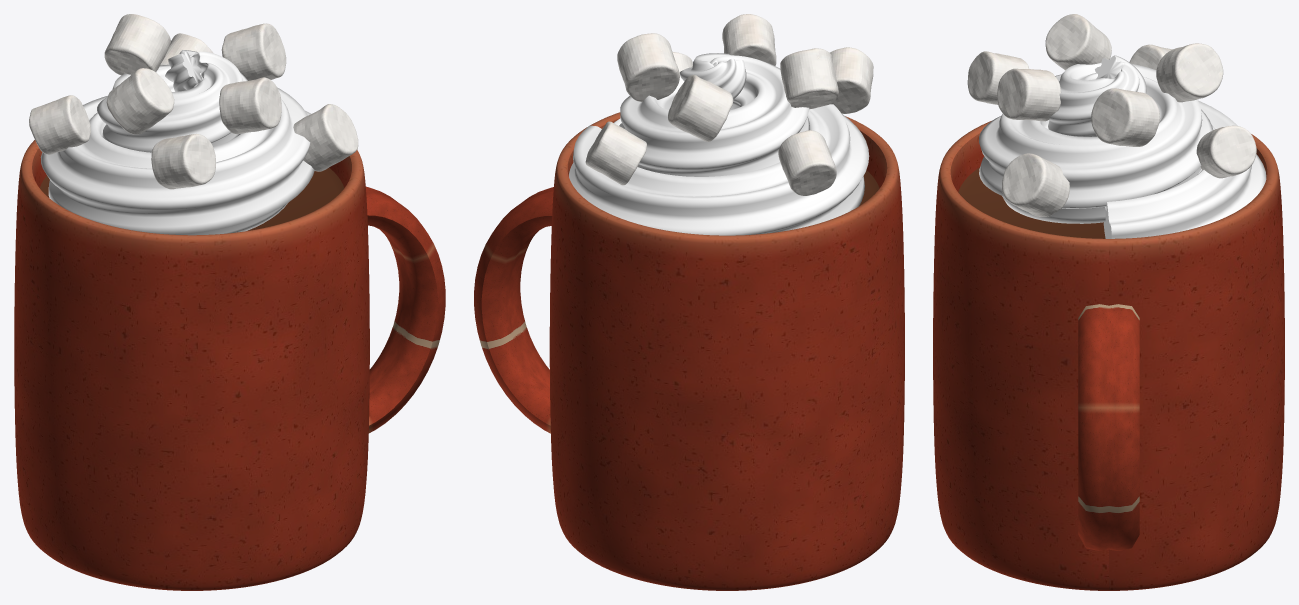
The model's file is hot-chocolate.glb.
The picture shows the model from 3 angles, left to right: view 1: azimuth 30°, elevation 25°; view 2: azimuth 150°, elevation 25°; view 3: azimuth 270°, elevation 25°; orthographic projection.
Visible parts, largest first — view 1: base, whipped, marshmallow, hot-choc; view 2: base, whipped, marshmallow; view 3: base, whipped, marshmallow, hot-choc.
Boxes of the visible parts, bbox=[...] form: base: bbox=[14, 140, 445, 590]; whipped: bbox=[40, 50, 314, 235]; marshmallow: bbox=[29, 14, 358, 189]; hot-choc: bbox=[40, 168, 344, 230]; base: bbox=[474, 112, 904, 590]; whipped: bbox=[569, 53, 869, 235]; marshmallow: bbox=[585, 14, 873, 195]; base: bbox=[933, 121, 1284, 590]; whipped: bbox=[979, 55, 1266, 238]; marshmallow: bbox=[967, 14, 1256, 216]; hot-choc: bbox=[958, 167, 1105, 238].
Size of the model in its own units: 0.1106 by 0.1286 by 0.0855.
Materials: 4 (2 with a texture image).
